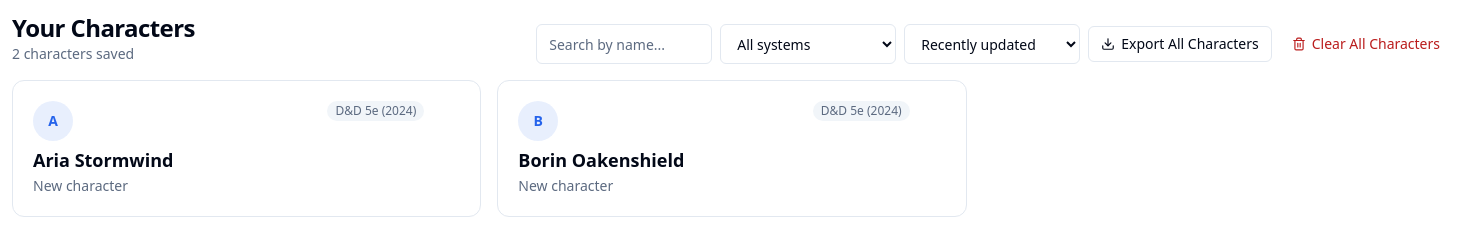
CharacterListView › restores the full grid when the search is cleared
The width and height of the screenshot is (1464, 234).
Step 1. Type "borin" into the search field titled "Search characters" → (624, 44), box [536,24,712,64]
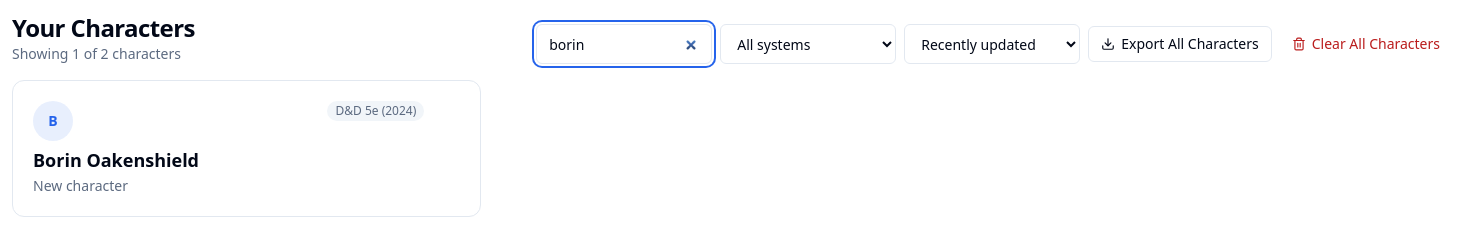
Expected: the button "Aria Stormwind" is gone
Step 2. Clear the search field titled "Search characters" → (624, 44), box [536,24,712,64]
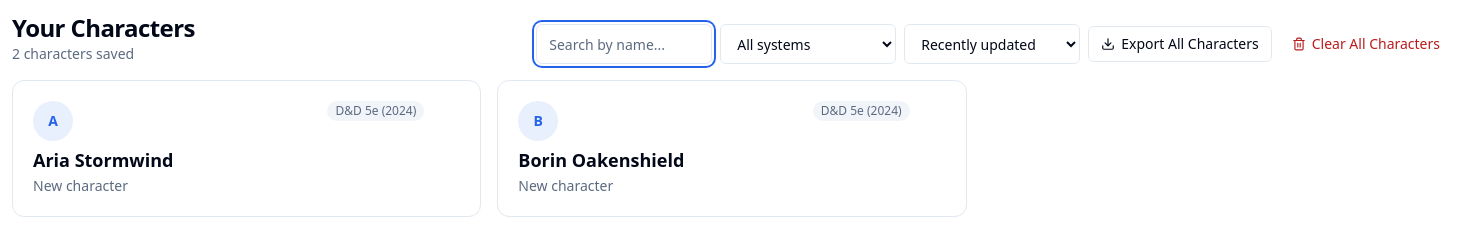
Expected: the heading "Borin Oakenshield" is shown, [518,148,684,172]
Expected: the heading "Aria Stormwind" is shown, [33,148,174,172]
Expected: the text "2 characters saved" is shown, [12,44,134,63]
